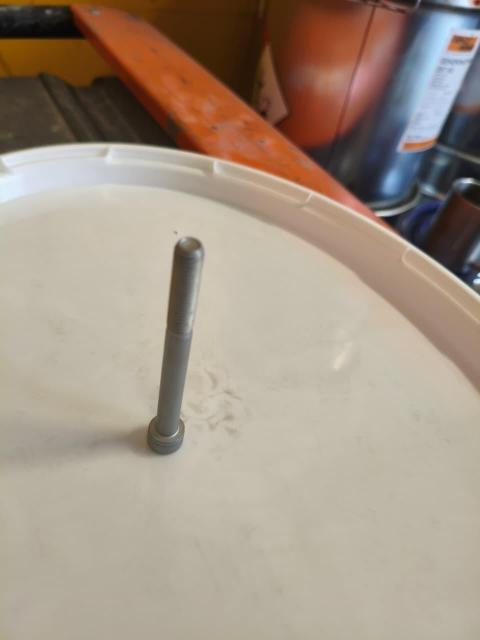Metal: (147, 235, 205, 457)
